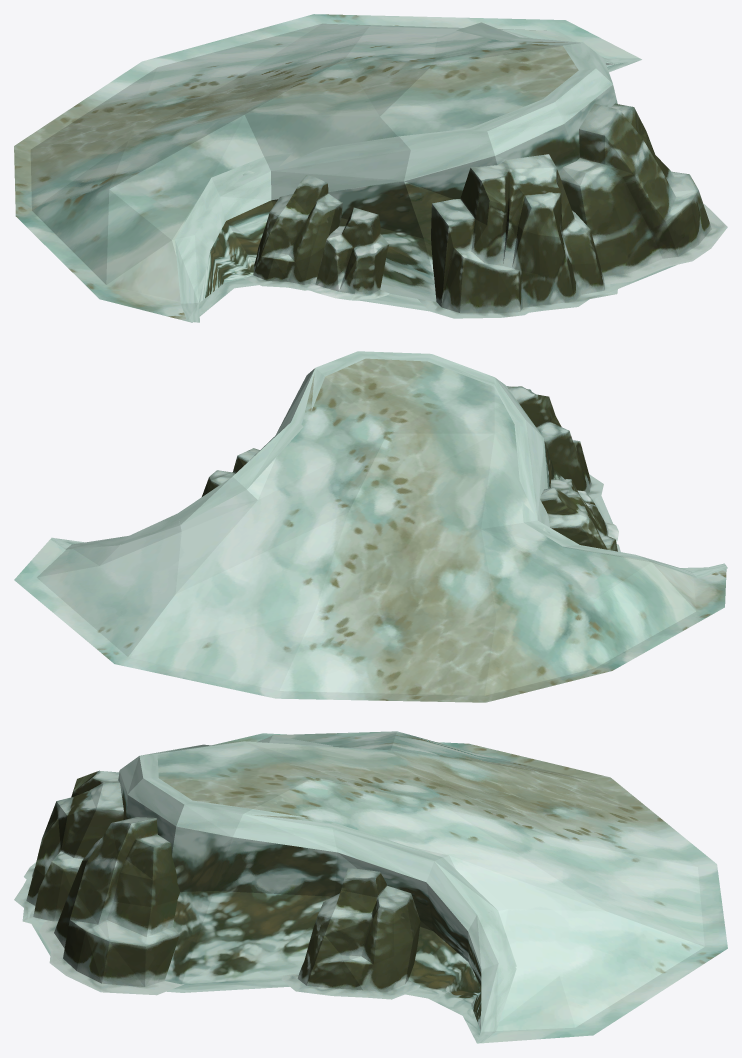
The model's file is berm_promontory_1.fbx.
The picture shows the model from 3 angles, top to bottom: view 1: azimuth 30°, elevation 25°; view 2: azimuth 150°, elevation 25°; view 3: azimuth 270°, elevation 25°; orthographic projection. The views are drawn at different scales.
Parts seen in each view (by area): view 1: obj3; view 2: obj3; view 3: obj3.
Boxes of the visible parts, x1,y1,x2,y2 form: obj3: (14, 14, 727, 322); obj3: (14, 351, 727, 702); obj3: (14, 731, 727, 1043).
Bounding box in the file's own units: 17.64 × 3.88 × 17.15.
